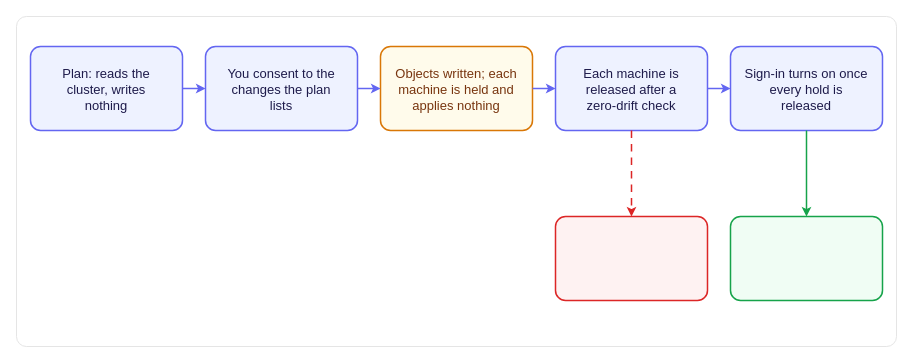
Some shapes in this 913 by 363 pixel diagram are drawn without their labels. The centre of each missing label's shape, as x and y in pixels:
"Adopted: Ichor manages the cluster" goes at point (806, 258).
"There is no rollback of an adoption" goes at point (631, 258).
